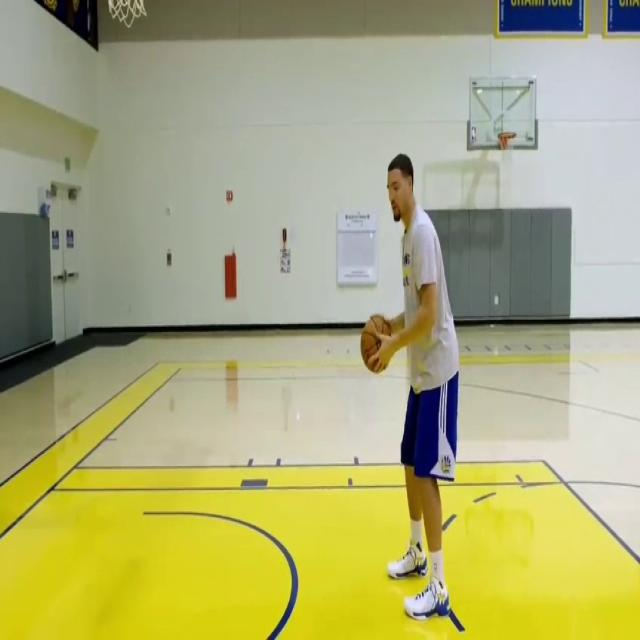ball: (359, 313, 393, 374)
